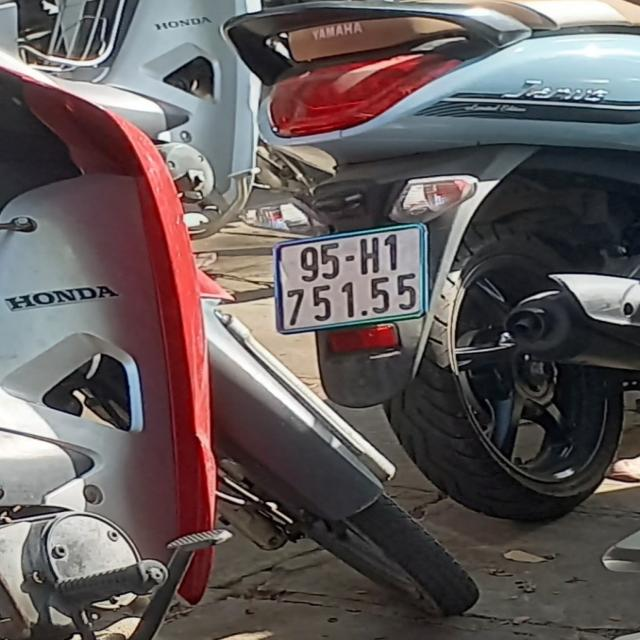1: (337, 282, 359, 318), (384, 234, 400, 269)
5: (366, 276, 391, 316), (319, 240, 340, 281), (398, 272, 420, 309), (309, 284, 331, 320)
7: (284, 287, 306, 328)
9: (298, 245, 320, 282)
H: (356, 235, 379, 275)
